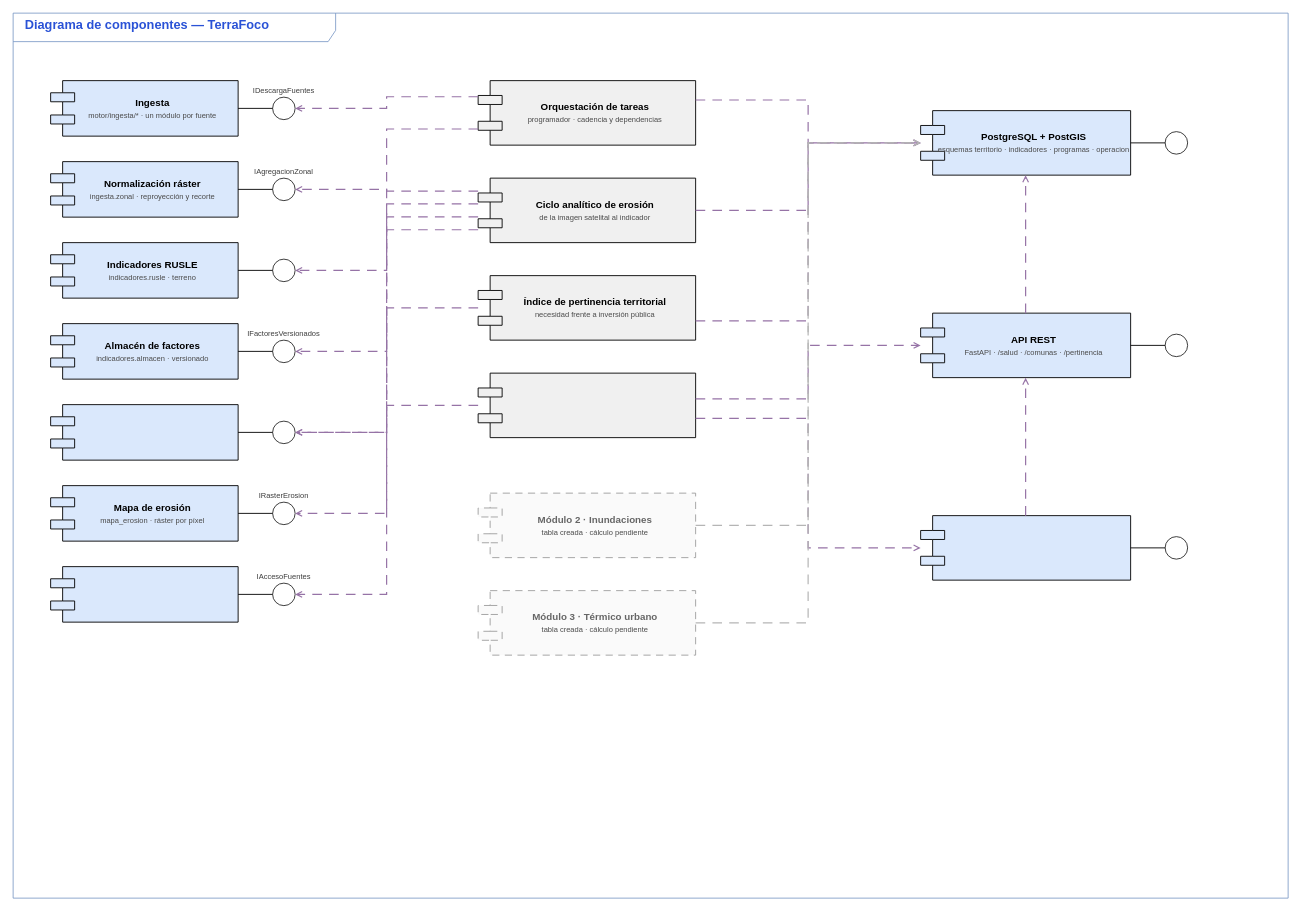
This 1301x911 diagram has some shape labels left out. Each missing label, with the box of its shape:
Consulta y visualización visor cartográfico y ficha comunal: (477, 372, 696, 438)
Credenciales credenciales · verifica tokens: (50, 566, 238, 622)
Cálculo de pérdida calcular · A = R × K × LS × C × P: (50, 404, 238, 460)
ICalculoFactores: (272, 258, 295, 282)
IErosionPorComuna: (272, 420, 295, 444)
IIndicadoresHTTP: (1164, 333, 1188, 357)
IPersistenciaEspacial: (1164, 131, 1188, 154)
IVisorCartografico: (1164, 536, 1188, 559)
Prototipo web MapLibre GL JS · sin servidor: (920, 515, 1131, 580)
